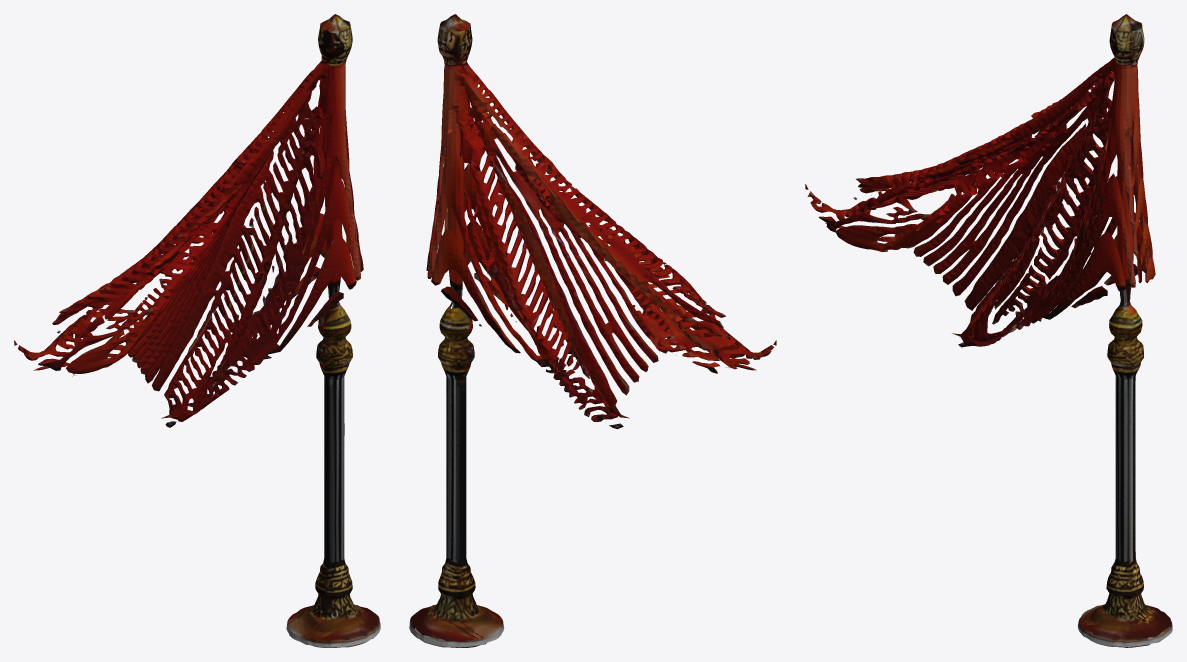
The model's file is prop.glb.
3 renders of one model, left to right at view 1: azimuth 30°, elevation 25°; view 2: azimuth 150°, elevation 25°; view 3: azimuth 330°, elevation 25°, orthographic.
Parts seen in each view (by area): view 1: geometry_0; view 2: geometry_0; view 3: geometry_0.
Boxes of the visible parts, bbox=[...] form: geometry_0: bbox=[14, 14, 380, 647]; geometry_0: bbox=[409, 14, 776, 647]; geometry_0: bbox=[805, 14, 1172, 647].
Size of the model in its own units: 1.2 by 1.95 by 0.265.
Materials: 1 (1 with a texture image).
